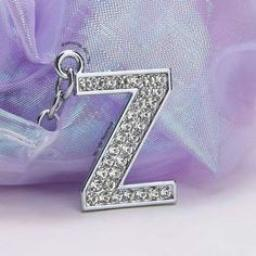z: (74, 70, 190, 210)
